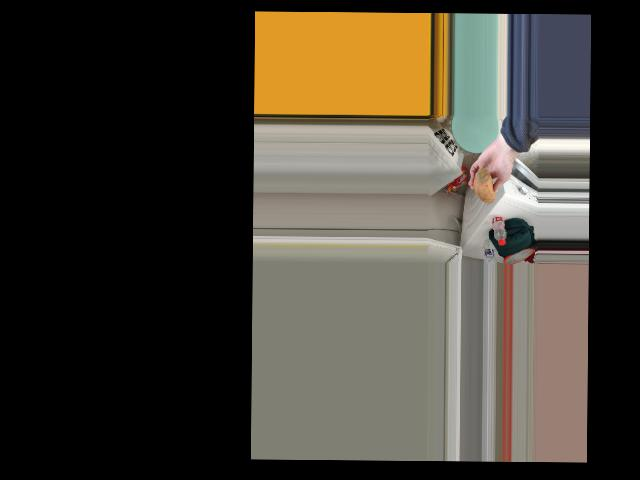sweet_potato: (475, 164, 492, 204)
